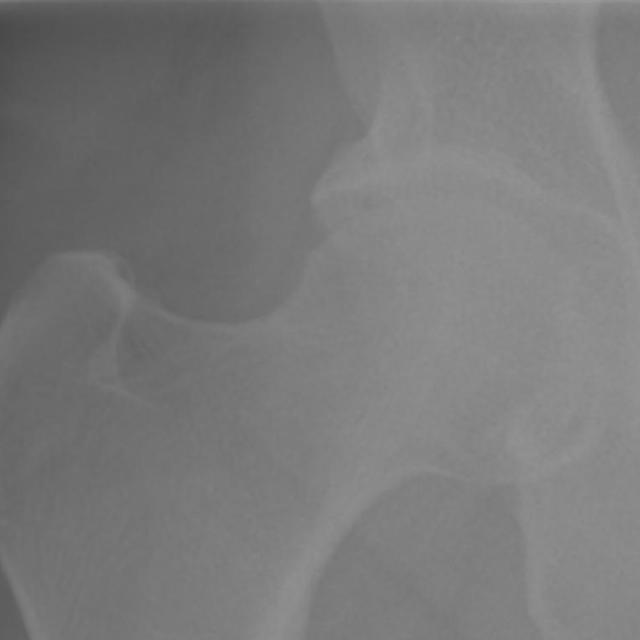Fitted_femural_head: (327, 189, 432, 327)
